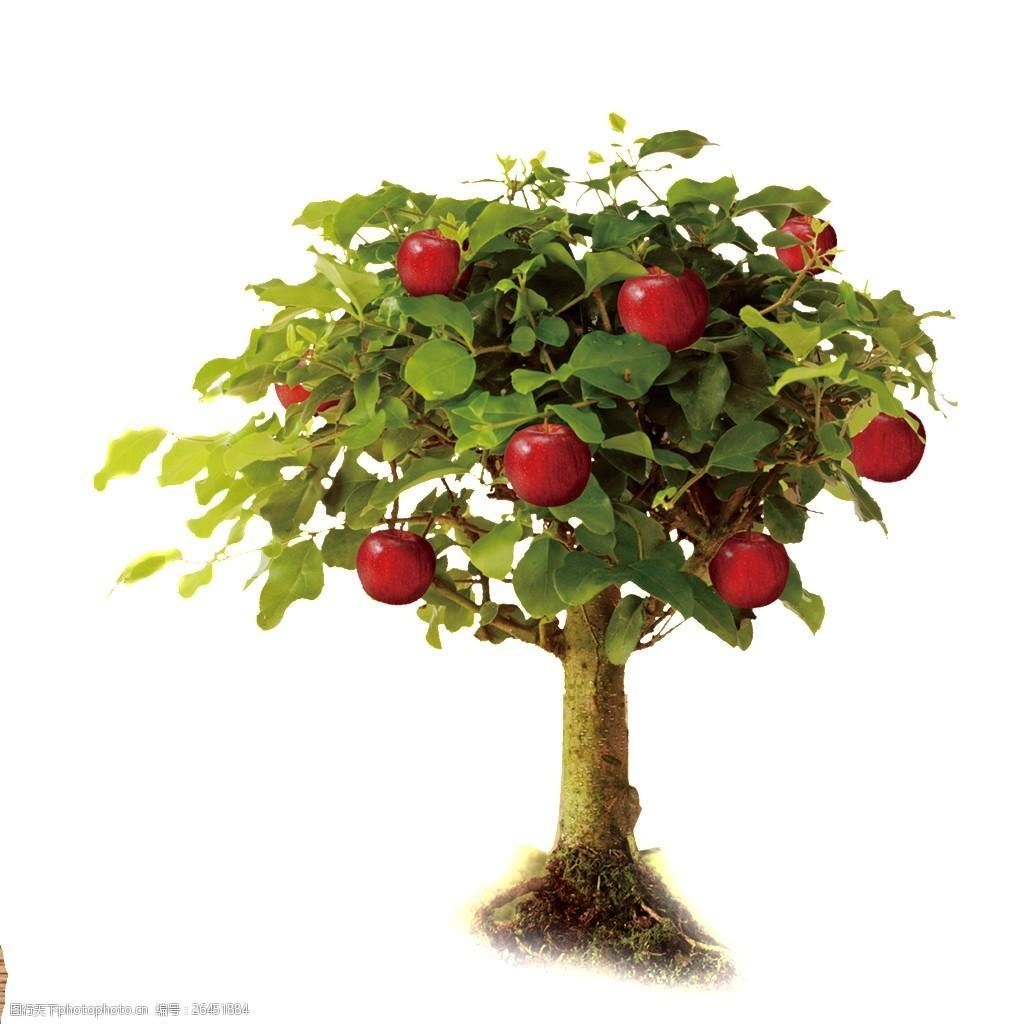apple: (614, 266, 708, 353), (501, 420, 589, 509), (707, 530, 789, 610), (353, 528, 435, 606), (846, 409, 925, 483), (392, 226, 462, 303), (776, 213, 838, 276)
